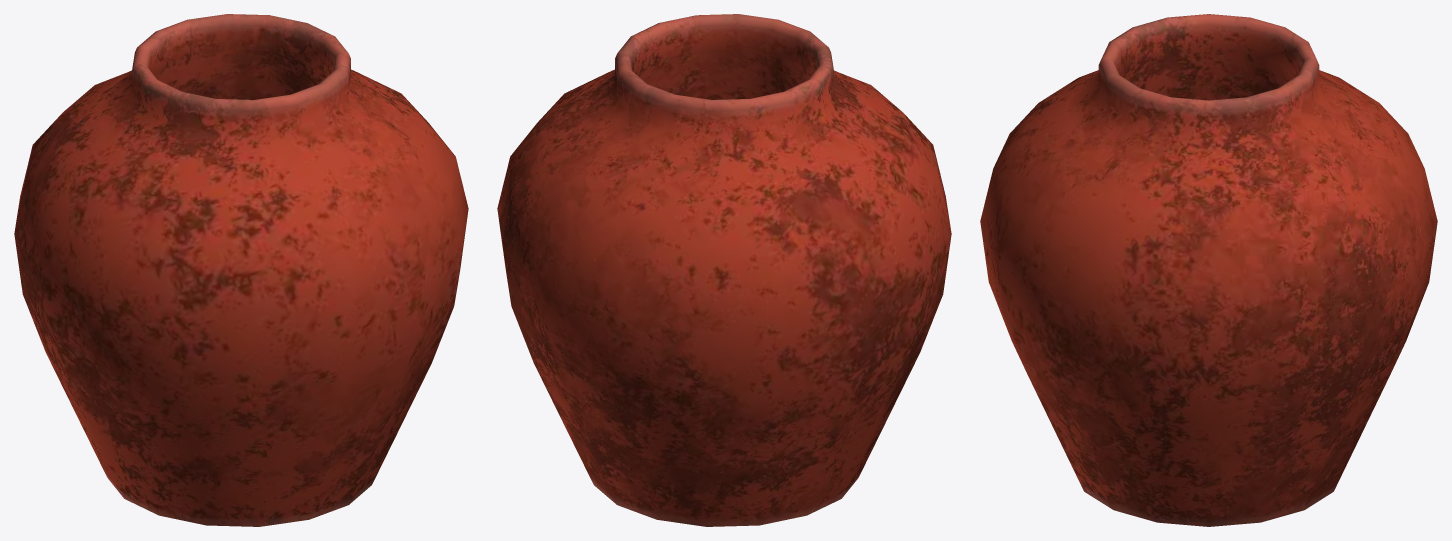
The model's file is jar.glb.
3 renders of one model, left to right at view 1: azimuth 30°, elevation 25°; view 2: azimuth 150°, elevation 25°; view 3: azimuth 270°, elevation 25°, orthographic.
Visible parts, largest first — view 1: Jar; view 2: Jar; view 3: Jar.
Boxes of the visible parts, x1,y1,x2,y2 form: Jar: [14, 14, 468, 526]; Jar: [497, 14, 951, 526]; Jar: [980, 14, 1437, 526].
Bounding box in the file's own units: 0.5913 × 0.5884 × 0.5913.
Materials: 1 (1 with a texture image).
